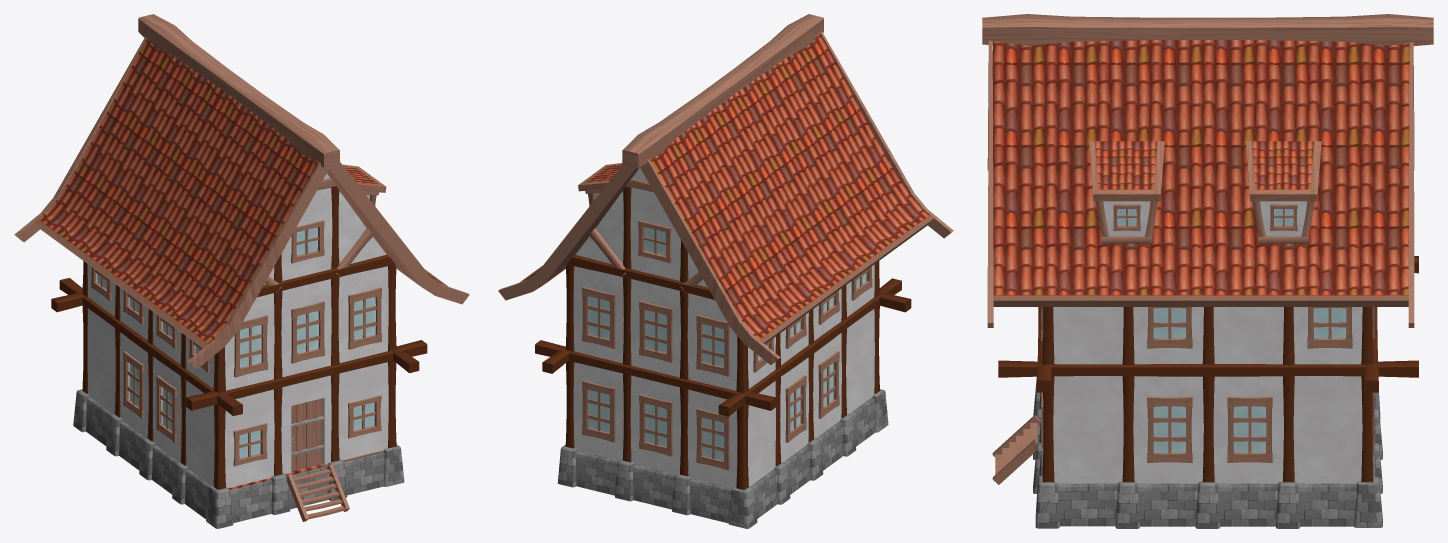
The model's file is house_03.fbx.
3 views of the same model, side by side, from view 1: azimuth 30°, elevation 25°; view 2: azimuth 150°, elevation 25°; view 3: azimuth 270°, elevation 25° (orthographic). The views are drawn at different scales.
Parts seen in each view (by area): view 1: roof_012, roof_011, roof_010, roof_013, cover_004, support_057, wall_014, wall_04_001, wall_030, wall_031, wall_015, wall_029 (+33 smaller); view 2: roof_012, roof_011, roof_010, roof_013, cover_005, support_057, wall_023, wall_022, wall_033, wall_032, wall_024, wall_034 (+32 smaller); view 3: roof_006, roof_009, roof_008, roof_007, support_057, wall_016, wall_020, wall_021, wall_019, roof_room_01_001, roof_room_01_002, support_048 (+24 smaller).
Boxes of the visible parts, x1,y1,x2,y2 form: roof_012: (75,67,232,290); roof_011: (119,98,275,322); roof_010: (162,130,318,347); roof_013: (34,38,189,258); cover_004: (187,162,469,368); support_057: (138,14,339,168); wall_014: (338,362,388,460); wall_04_001: (281,375,331,473); wall_030: (281,279,331,376); wall_031: (338,266,388,362); wall_015: (225,389,274,487); wall_029: (225,293,274,390); roof_012: (690,95,847,319); roof_011: (733,64,890,287); roof_010: (777,33,933,255); roof_013: (649,127,804,343); cover_005: (498,159,780,364); support_057: (622,14,823,168); wall_023: (630,375,680,474); wall_022: (573,362,623,460); wall_033: (630,279,680,377); wall_032: (573,266,623,363); wall_024: (687,389,737,488); wall_034: (687,293,737,390); roof_006: (993,41,1097,306); roof_009: (1308,41,1409,306); roof_008: (1203,40,1307,306); roof_007: (1098,40,1202,306); support_057: (982,14,1433,45); wall_016: (1053,376,1123,483); wall_020: (1133,376,1203,483); wall_021: (1213,376,1283,483); wall_019: (1293,376,1362,483); roof_room_01_001: (1089,141,1164,244); roof_room_01_002: (1246,141,1321,244); support_048: (998,360,1418,377).
Bounding box in the file's own units: 366 × 465 × 420.
